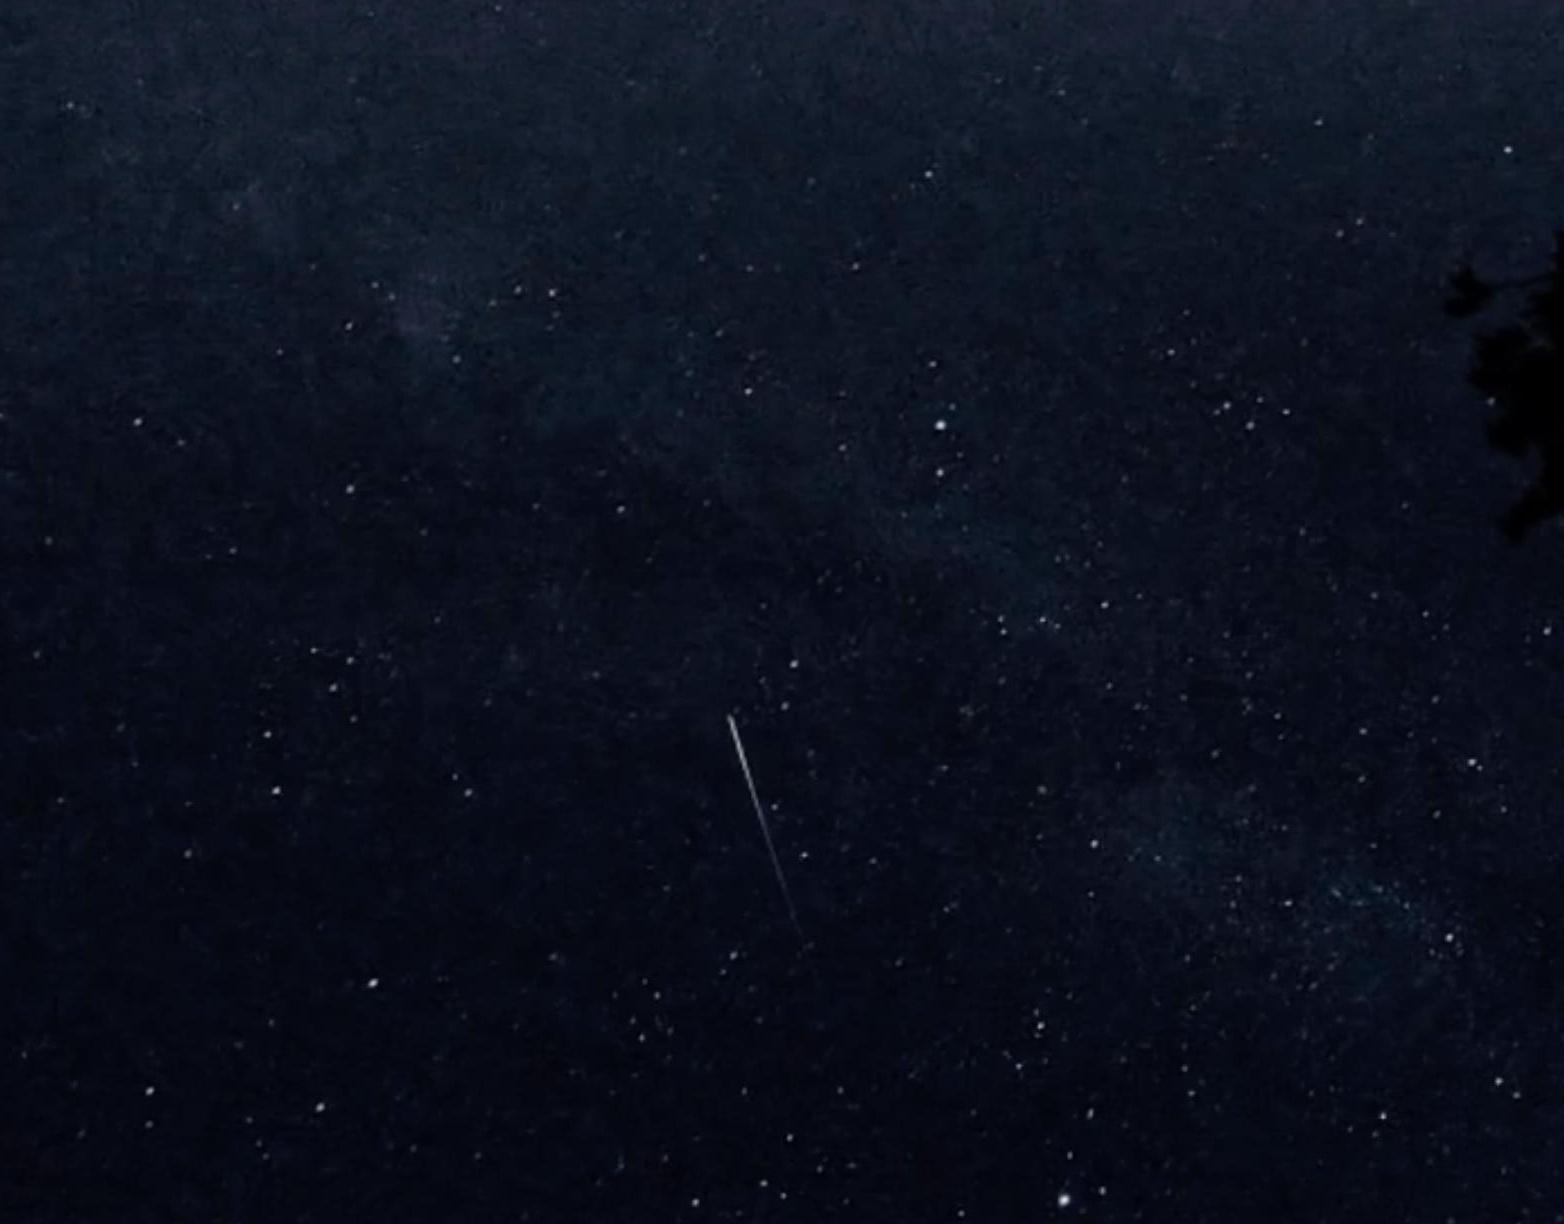meteorite: (661, 692, 849, 936)
